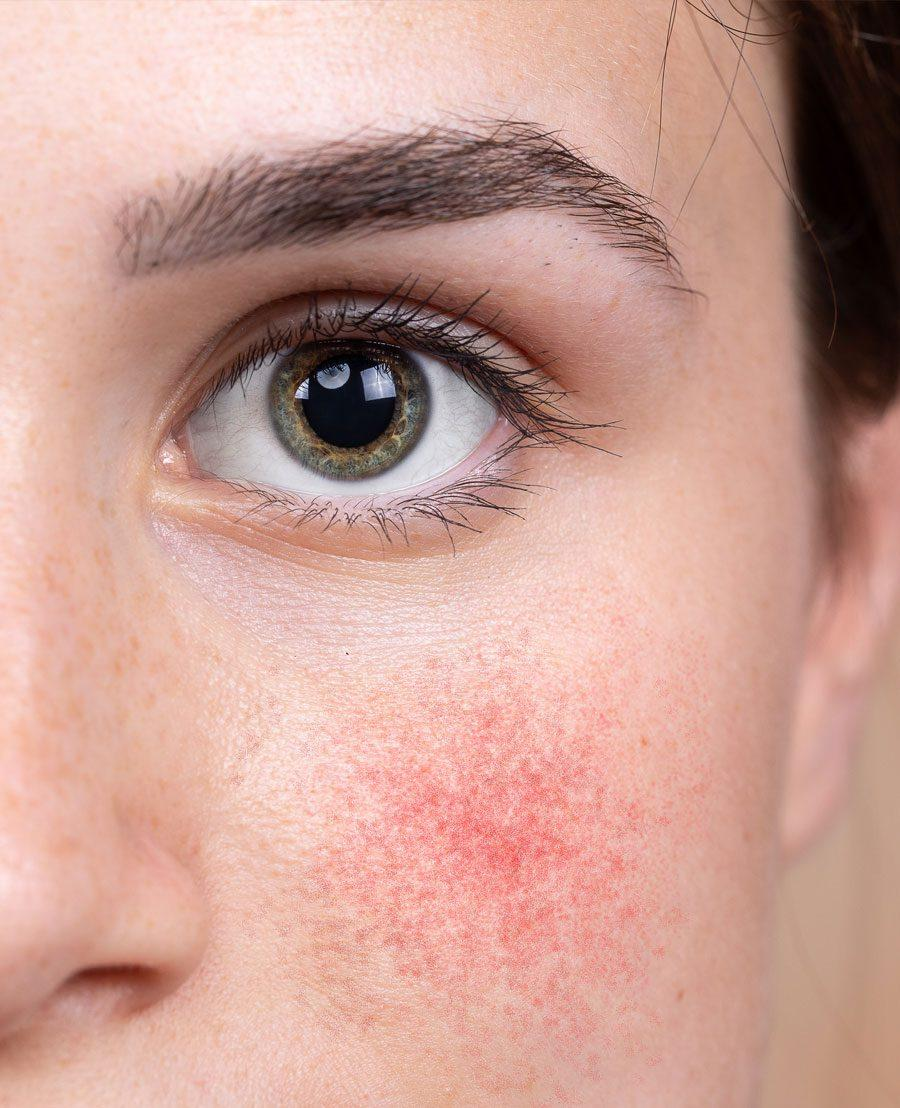Skin-Redness: (285, 628, 688, 1035)
